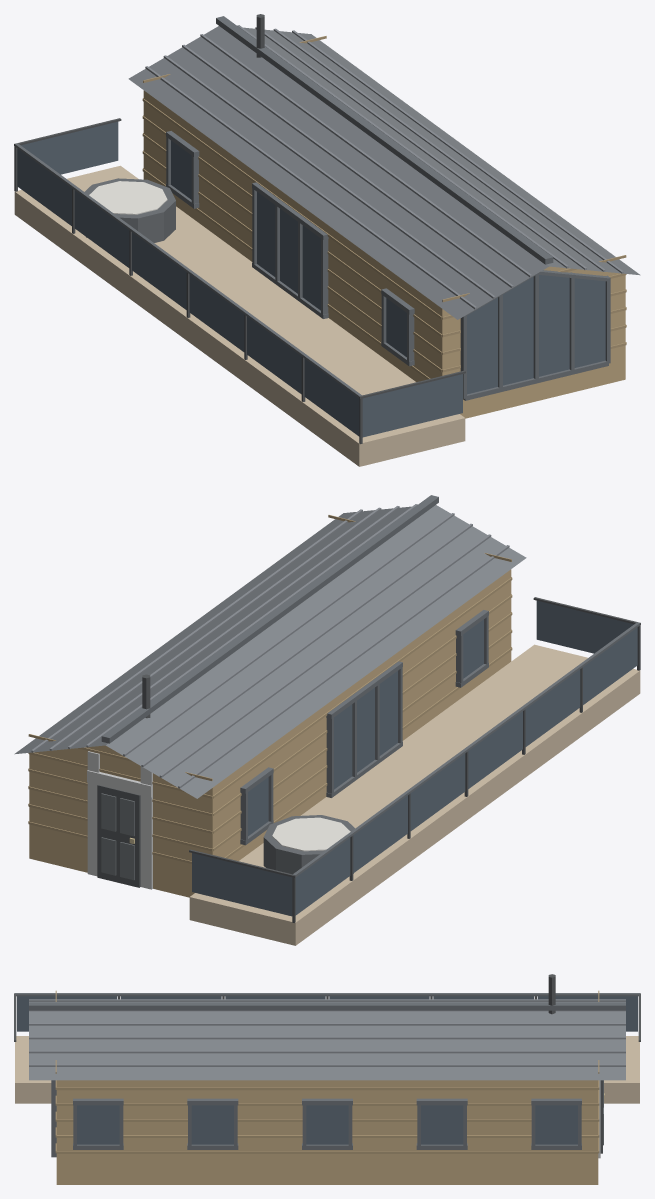
3 renders of one model, top to bottom at view 1: azimuth 30°, elevation 25°; view 2: azimuth 150°, elevation 25°; view 3: azimuth 270°, elevation 25°, orthographic. The views are drawn at different scales.
Parts seen in each view (by area): view 1: slate, larch, door_wood, slate_dk, slate_lt, window_glass_014, door_wood_p, window_glass_008, window_glass_007, pipe, window_glass_004, window_glass_006 (+11 smaller); view 2: slate, door_wood, larch, slate_dk, slate_lt, door_wood_p, window_glass_007, stone_band, window_glass_008, pipe, door_dark_p, window_glass_001 (+13 smaller); view 3: door_wood, slate, slate_dk, slate_lt, door_wood_p, larch, window_glass_015, window_glass_016, window_glass_017, window_glass_018, window_glass_019, window_glass_006 (+6 smaller).
Part boxes in pixels (left/top/right/bottom): slate: left=128, top=26, right=640, bottom=319; larch: left=14, top=165, right=465, bottom=466; door_wood: left=143, top=90, right=625, bottom=418; slate_dk: left=14, top=16, right=610, bottom=400; slate_lt: left=145, top=25, right=623, bottom=309; window_glass_014: left=467, top=275, right=605, bottom=394; door_wood_p: left=142, top=36, right=626, bottom=379; window_glass_008: left=362, top=374, right=462, bottom=437; window_glass_007: left=21, top=121, right=118, bottom=174; pipe: left=14, top=14, right=465, bottom=444; window_glass_004: left=189, top=274, right=244, bottom=351; window_glass_006: left=304, top=359, right=359, bottom=436; slate: left=14, top=505, right=526, bottom=798; door_wood: left=29, top=569, right=511, bottom=897; larch: left=189, top=644, right=640, bottom=945; slate_dk: left=101, top=495, right=640, bottom=876; slate_lt: left=31, top=504, right=509, bottom=788; door_wood_p: left=28, top=515, right=512, bottom=863; window_glass_007: left=192, top=853, right=292, bottom=916; stone_band: left=87, top=751, right=152, bottom=889; window_glass_008: left=536, top=600, right=633, bottom=653; pipe: left=142, top=597, right=640, bottom=922; door_dark_p: left=101, top=793, right=134, bottom=880; window_glass_001: left=295, top=838, right=350, bottom=915; door_wood: left=56, top=1080, right=598, bottom=1184; slate: left=29, top=1001, right=625, bottom=1080; slate_dk: left=15, top=993, right=639, bottom=1157; slate_lt: left=29, top=999, right=625, bottom=1066; door_wood_p: left=55, top=990, right=599, bottom=1153; larch: left=15, top=1036, right=639, bottom=1103; window_glass_015: left=77, top=1105, right=119, bottom=1144; window_glass_016: left=191, top=1105, right=233, bottom=1144; window_glass_017: left=306, top=1105, right=348, bottom=1144; window_glass_018: left=421, top=1105, right=463, bottom=1144; window_glass_019: left=535, top=1105, right=577, bottom=1144; window_glass_006: left=17, top=996, right=117, bottom=1031.
Size of the model in its own units: 6.67 by 4.02 by 13.58.
